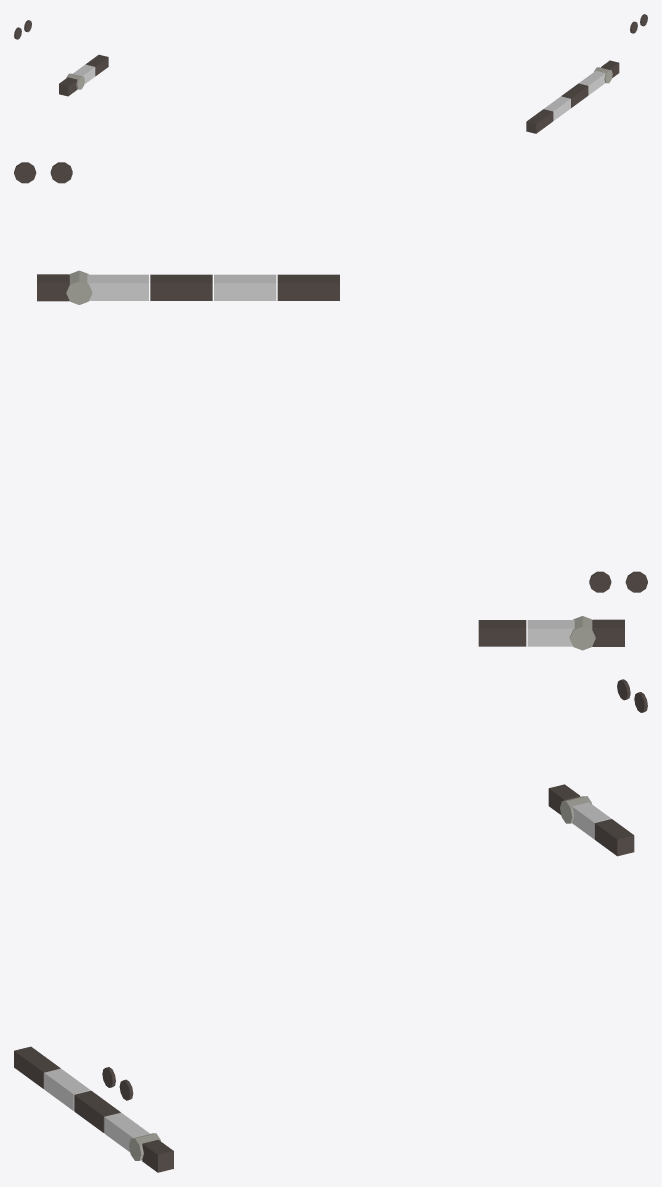
File: SM_PasoNivel_60_v2_Abandonado_LOD1.fbx
The picture shows the model from 3 angles, top to bottom: view 1: azimuth 30°, elevation 25°; view 2: azimuth 150°, elevation 25°; view 3: azimuth 270°, elevation 25°; orthographic projection. The views are drawn at different scales.
Visible parts, largest first — view 1: Barrera_1, Barrera_2; view 2: Barrera_1, Barrera_2, Luces_A, Luces_B; view 3: Barrera_1, Barrera_2.
Part boxes in pixels (left/top/right/bottom): Barrera_1: left=526, top=60, right=619, bottom=133; Barrera_2: left=59, top=54, right=108, bottom=96; Barrera_1: left=37, top=270, right=339, bottom=304; Barrera_2: left=478, top=616, right=624, bottom=650; Luces_A: left=50, top=162, right=647, bottom=592; Luces_B: left=14, top=162, right=611, bottom=592; Barrera_1: left=14, top=1046, right=173, bottom=1172; Barrera_2: left=548, top=784, right=634, bottom=856.
Size of what is drawn, in the model's own units: 15.78 by 1.91 by 10.26.
